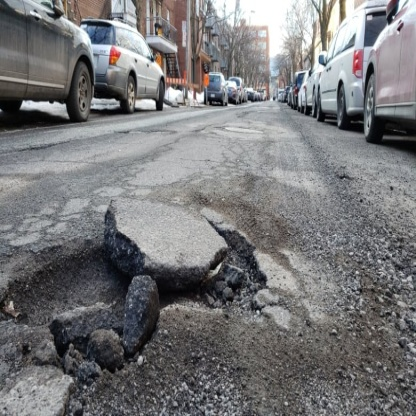pothole: (1, 203, 256, 397)
